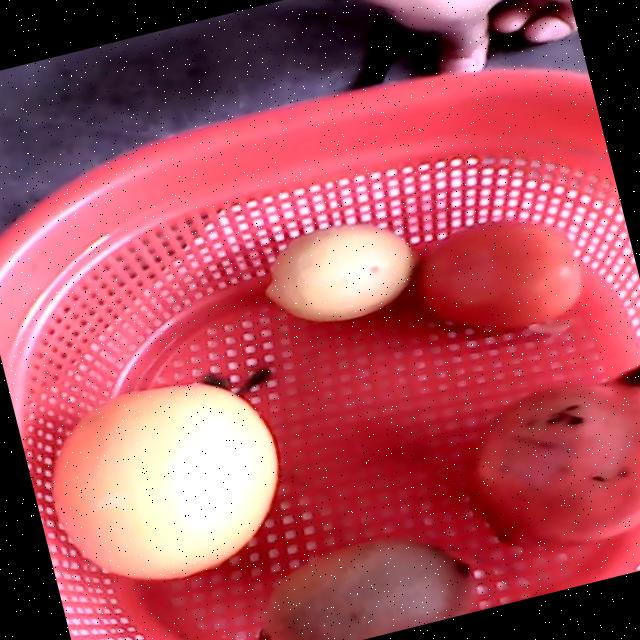kiwi: (256, 540, 476, 640)
lemon: (266, 220, 411, 323)
orange: (53, 381, 276, 579)
pomegranate: (465, 365, 640, 547)
tomato: (417, 222, 580, 326)
